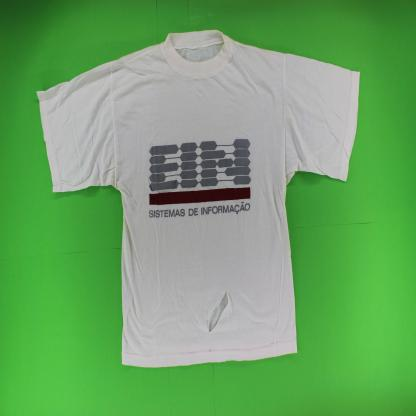hole: (207, 290, 230, 334)
